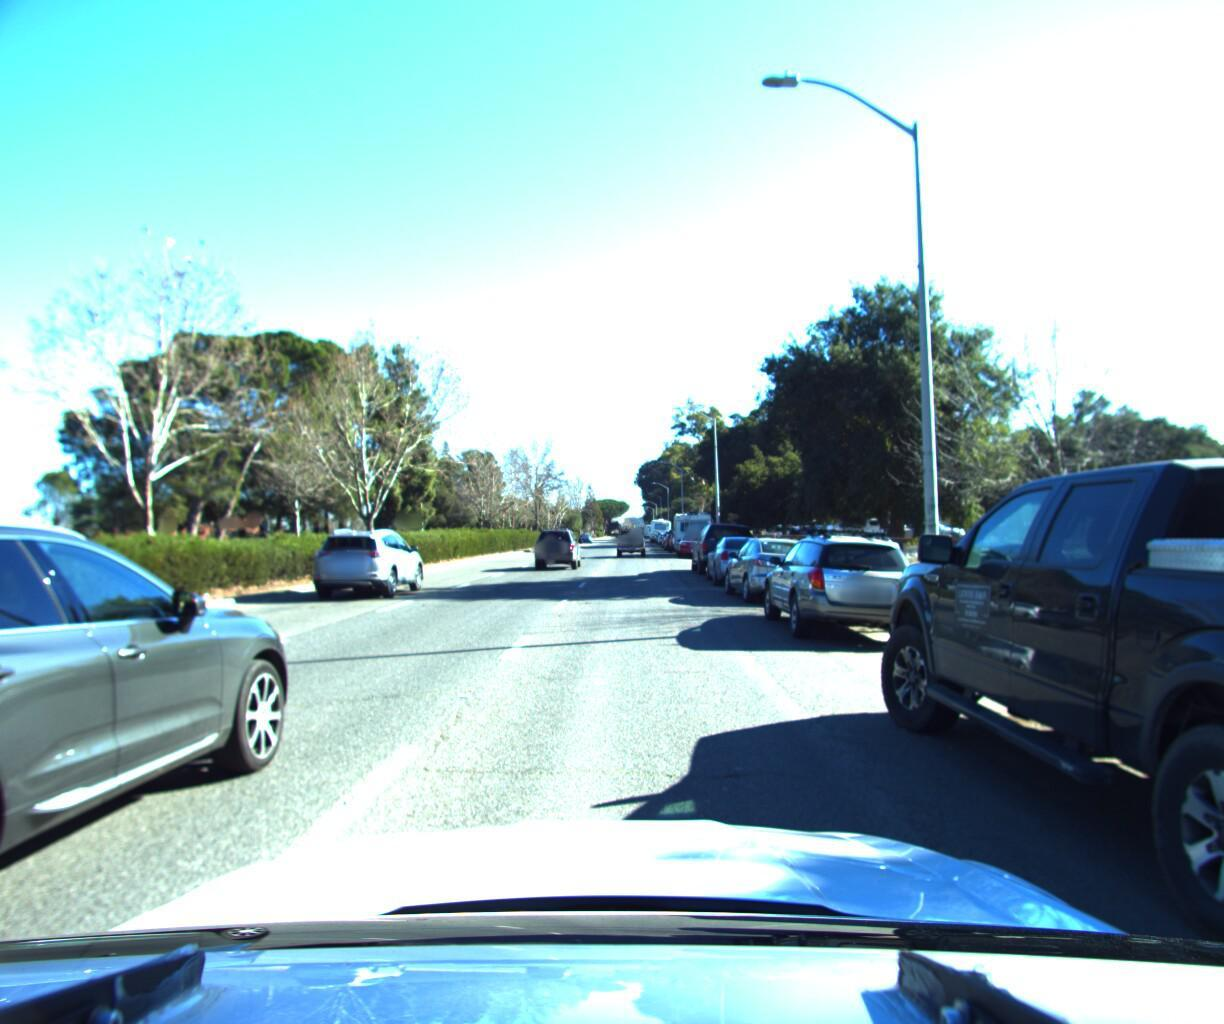car: (847, 333, 1224, 1024), (0, 496, 320, 1024), (750, 519, 942, 648), (718, 530, 834, 604), (313, 528, 429, 602), (699, 529, 788, 587), (689, 517, 759, 573), (529, 522, 583, 569), (611, 517, 648, 554), (677, 530, 709, 556)
other_vehicle: (671, 506, 716, 553)
